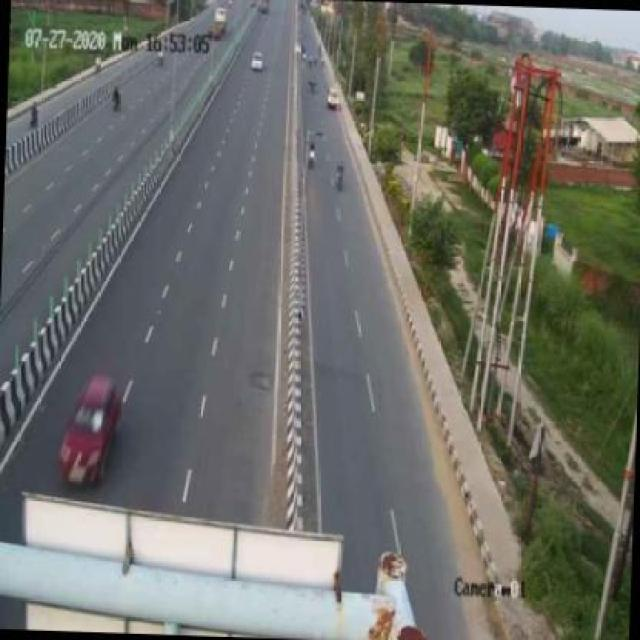car: (57, 368, 128, 489)
